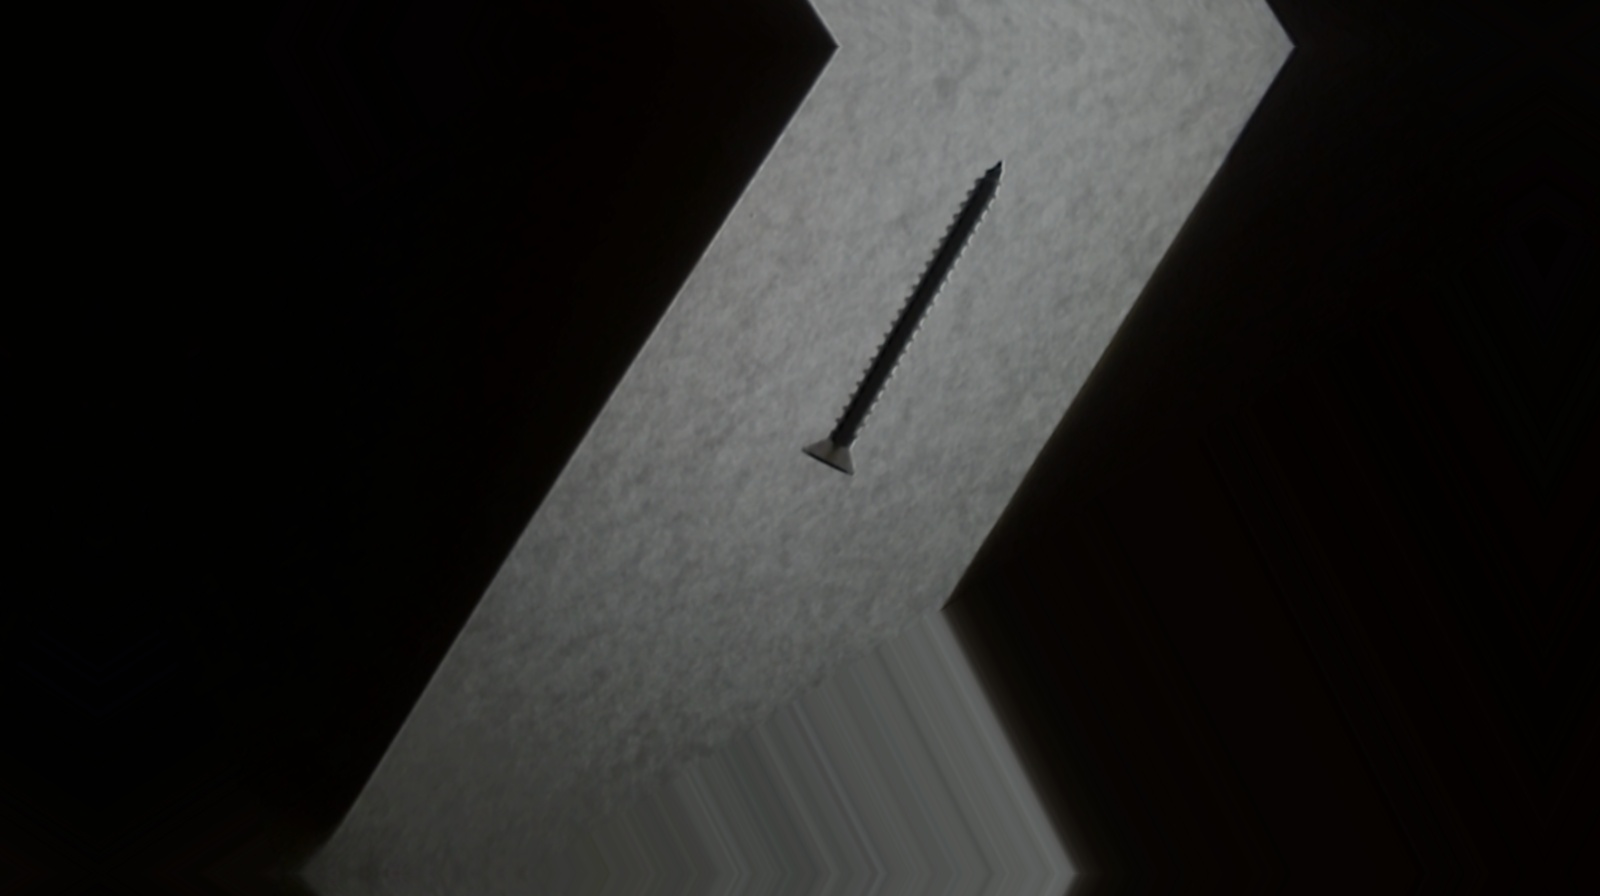S002: (723, 143, 1100, 516)
